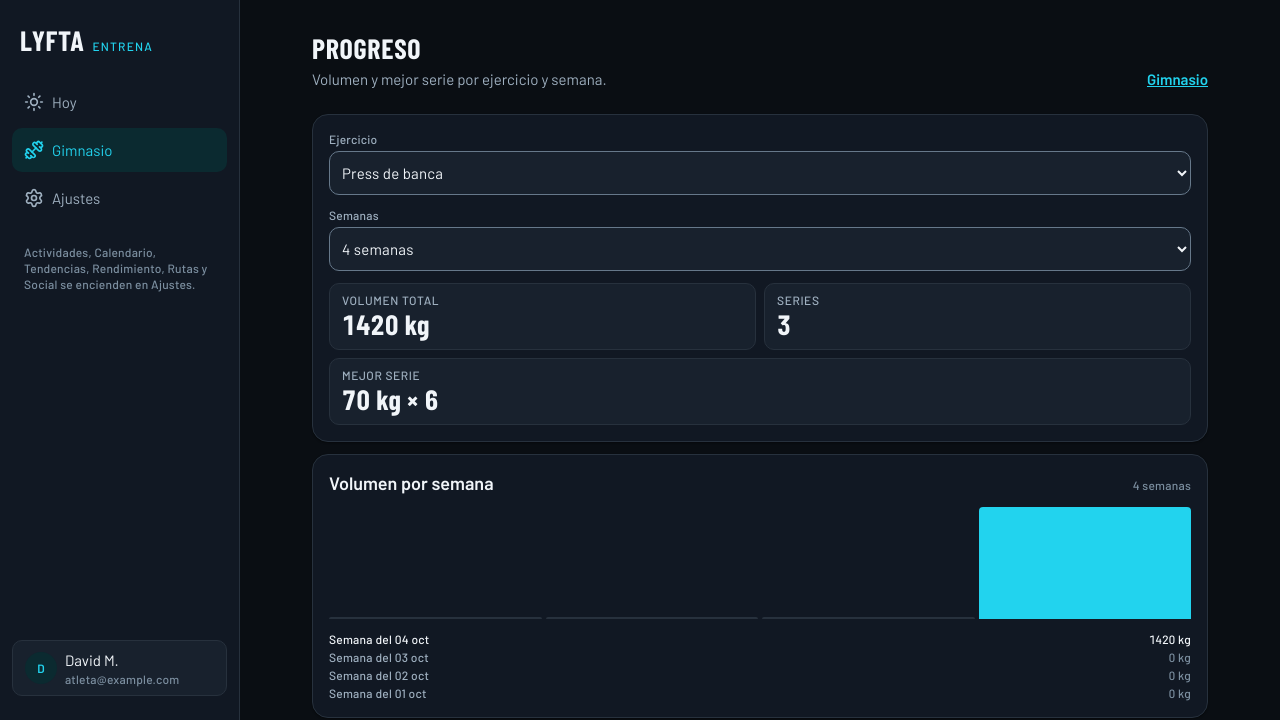
Test: estadísticas de progreso › muestra volumen por semana, total y mejor serie, y deja cambiar de ejercicio
Check: the heading "Progreso" is shown, box x1=312 y1=31 x2=421 y2=65
Check: the text "1420 kg" below "Volumen total" is shown, box x1=342 y1=307 x2=430 y2=341
# Se puede ampliar la ventana a 12 semanas desde el selector.
Select "12 semanas" in the dropdown labelled "Semanas". click: (760, 249)
box: x1=329 y1=227 x2=1191 y2=271
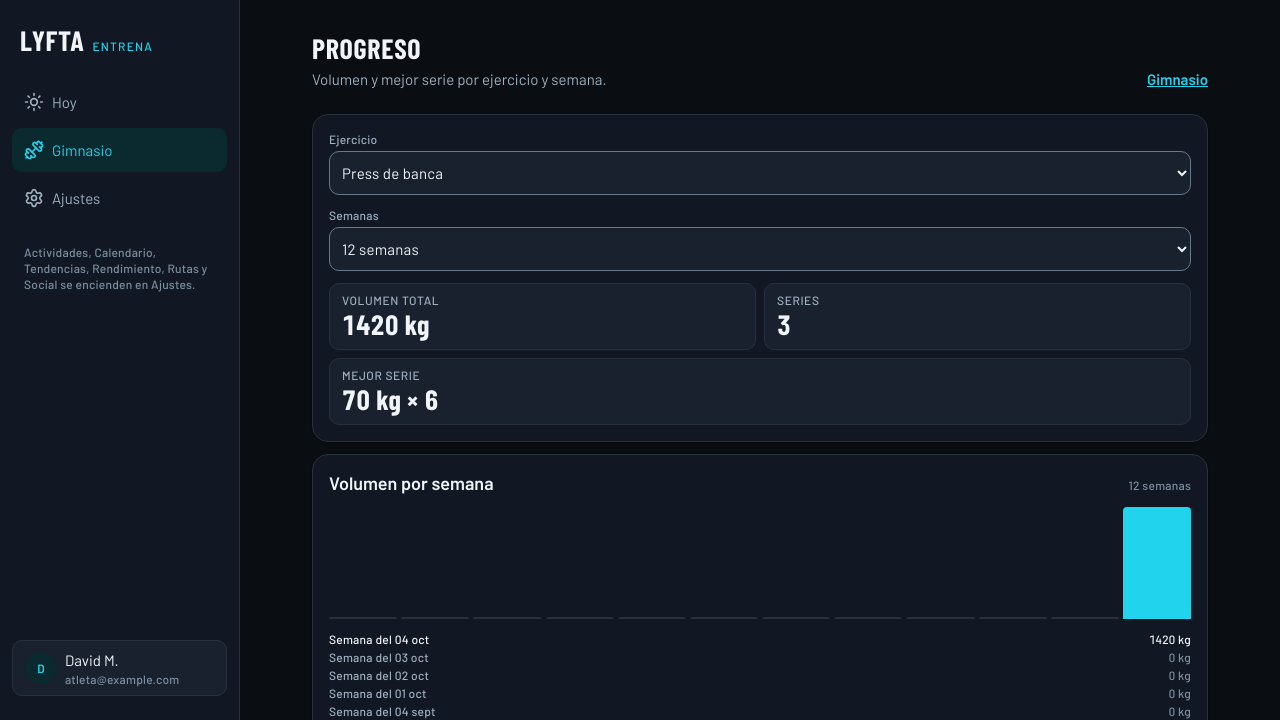
Select "Remo con barra" in the dropdown labelled "Ejercicio". click: (760, 173)
box: x1=329 y1=151 x2=1191 y2=195
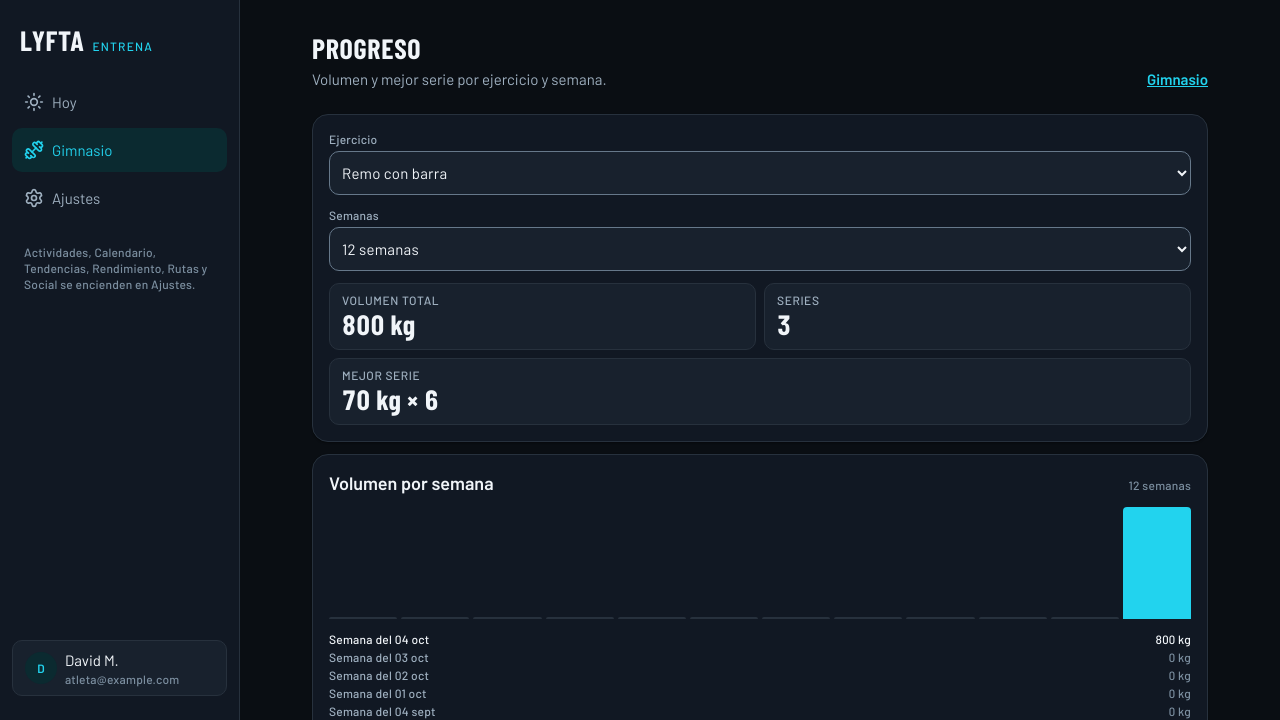
Check: the text "800 kg" below "Volumen total" is shown, box x1=342 y1=307 x2=415 y2=341
